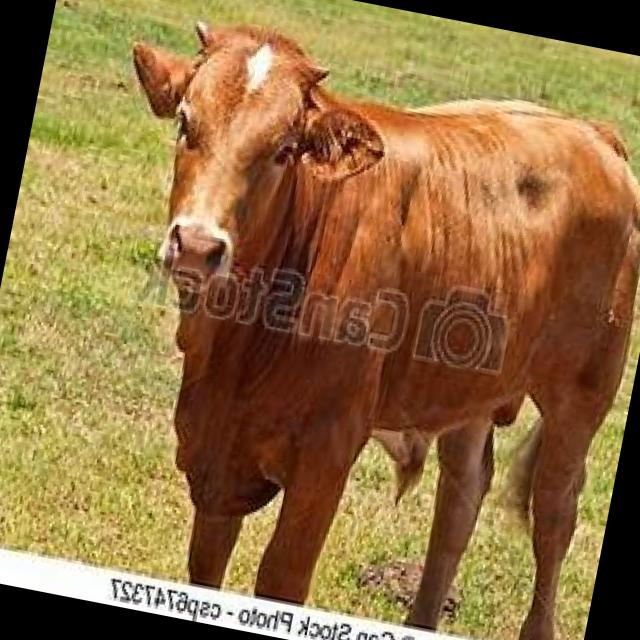cow: (32, 7, 640, 640)
